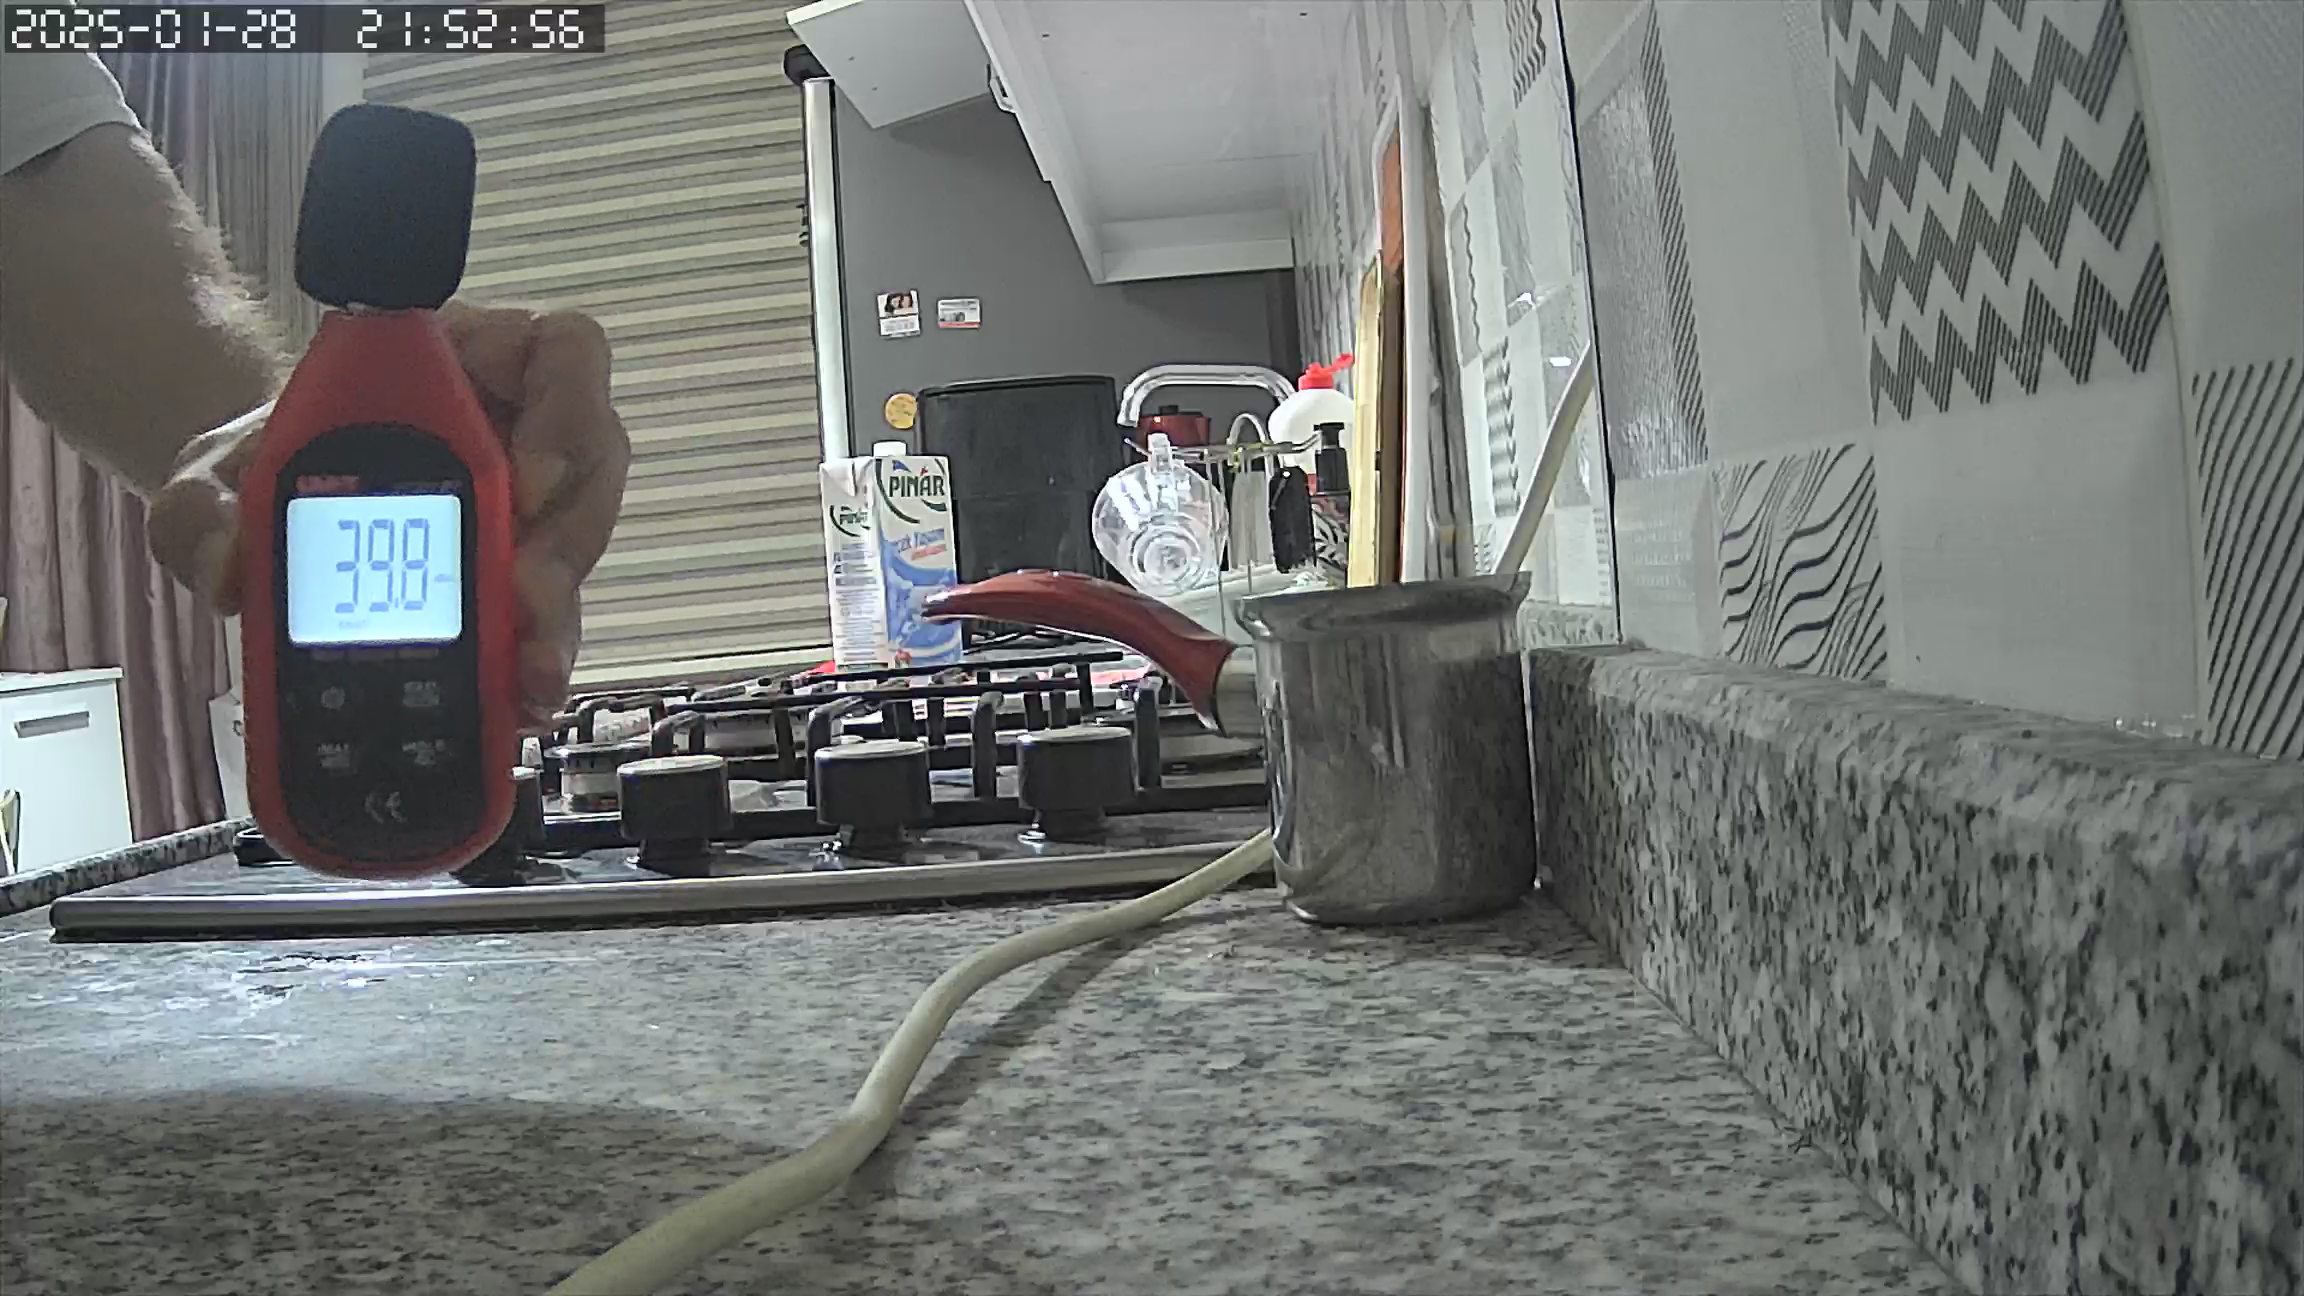screen: (286, 495, 465, 642)
